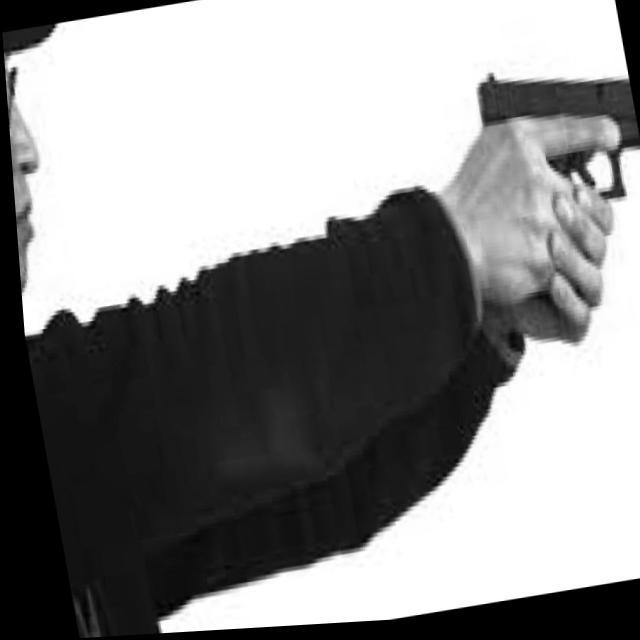weapon: (468, 54, 640, 240)
